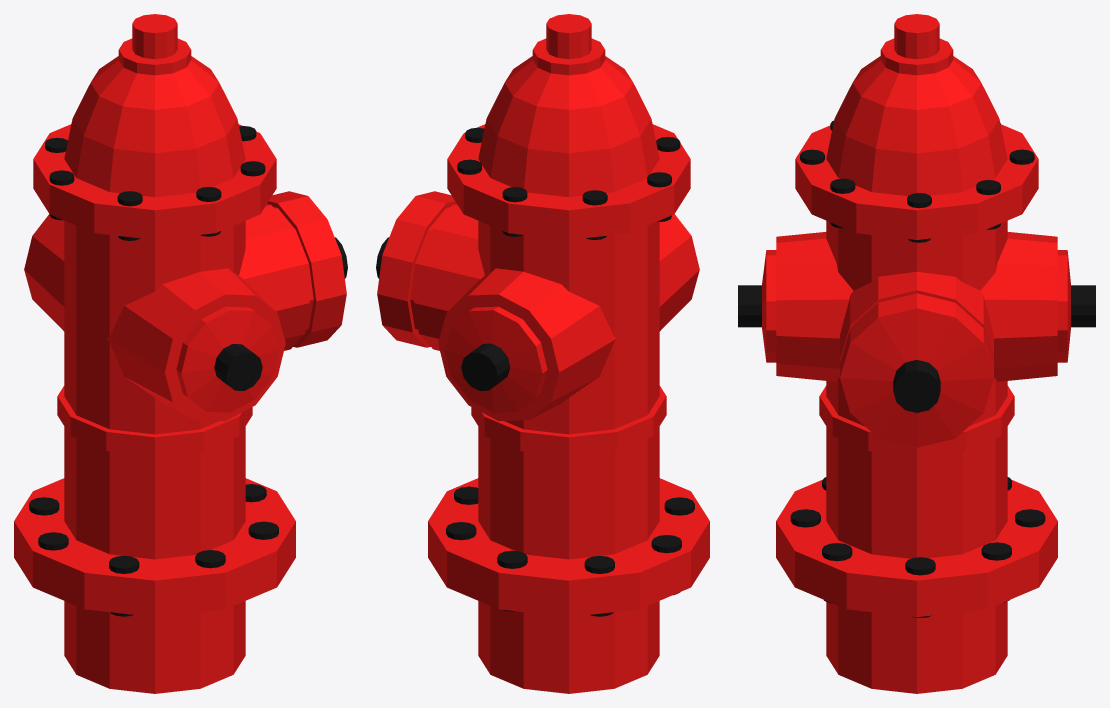
The model's file is hydrant.fbx.
3 views of the same model, side by side, from view 1: azimuth 30°, elevation 25°; view 2: azimuth 150°, elevation 25°; view 3: azimuth 270°, elevation 25° (orthographic).
Visible parts, largest first — view 1: Cylinder; view 2: Cylinder; view 3: Cylinder.
Boxes of the visible parts, left/top/right/bottom form: Cylinder: left=14, top=14, right=347, bottom=693; Cylinder: left=376, top=14, right=709, bottom=693; Cylinder: left=738, top=14, right=1095, bottom=693.
Bounding box in the file's own units: 2.23 × 4.44 × 2.28.
1 material, 1 textured.
